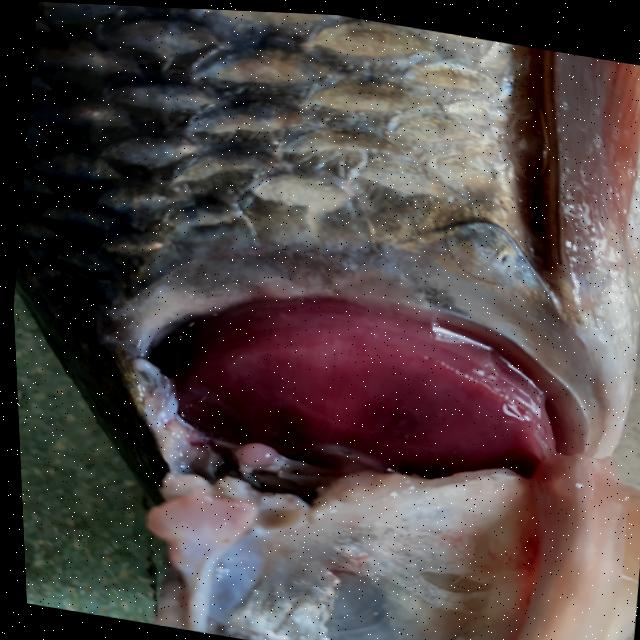Fresh: (81, 226, 637, 564)
